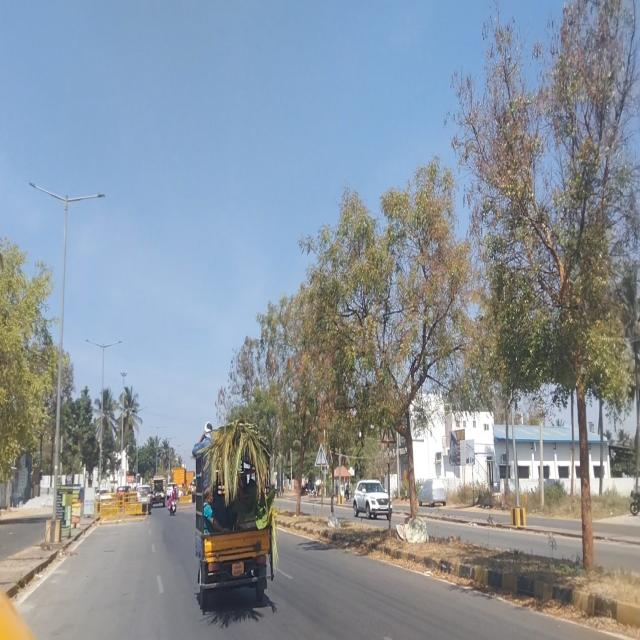bien_cam: (379, 422, 396, 447)
